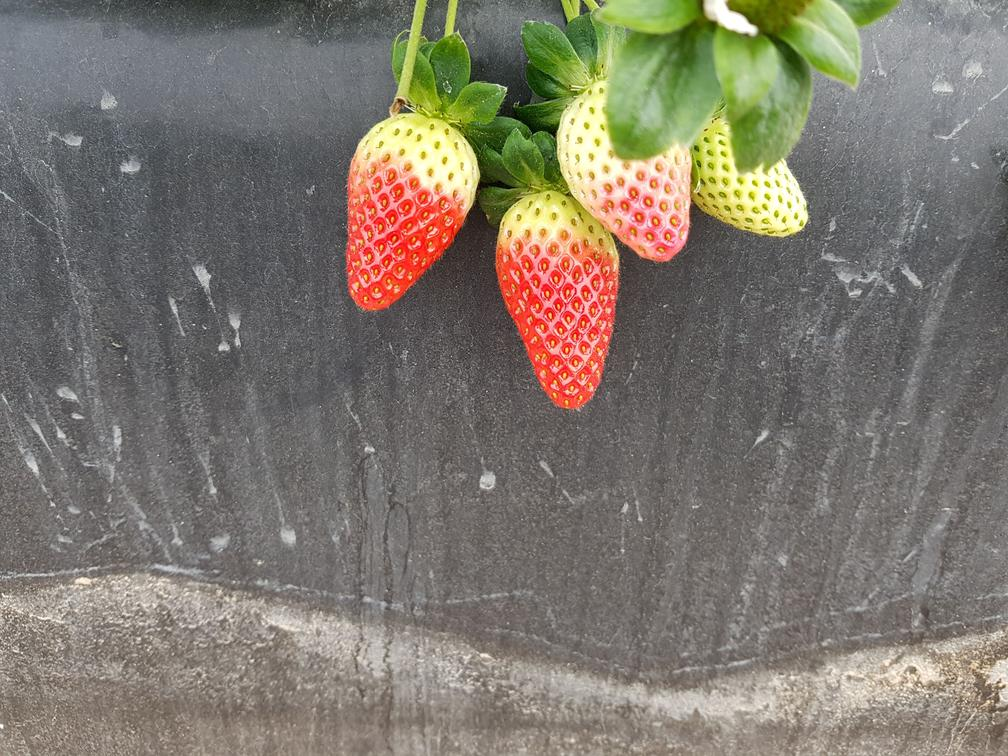Ripe: (340, 110, 479, 318), (498, 208, 621, 410), (571, 121, 697, 262)
Unripe: (704, 124, 825, 246)
